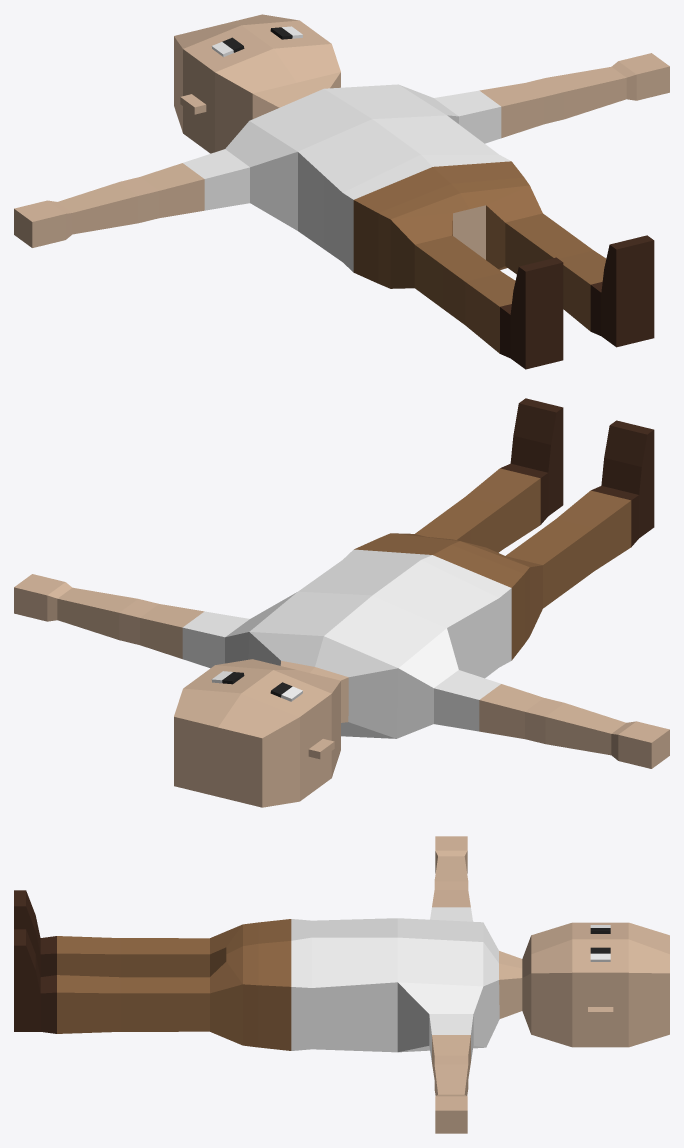
The model's file is Walking man 2.fbx.
The picture shows the model from 3 angles, top to bottom: view 1: azimuth 30°, elevation 25°; view 2: azimuth 150°, elevation 25°; view 3: azimuth 270°, elevation 25°; orthographic projection. The views are drawn at different scales.
Visible parts, largest first — view 1: Cube.001; view 2: Cube.001; view 3: Cube.001.
Part boxes in pixels (box(x1,y1,x2,y2)): Cube.001: box(14, 14, 669, 369); Cube.001: box(14, 398, 669, 807); Cube.001: box(14, 836, 669, 1133).
Size of the model in its own units: 125 by 24.64 by 127.
Materials: 1 (1 with a texture image).
